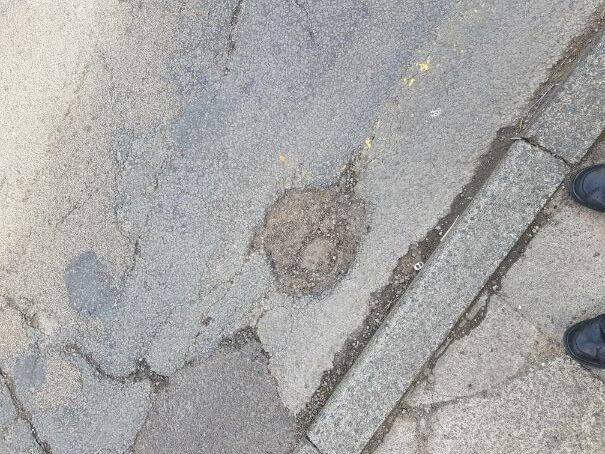pothole: (244, 143, 374, 301)
